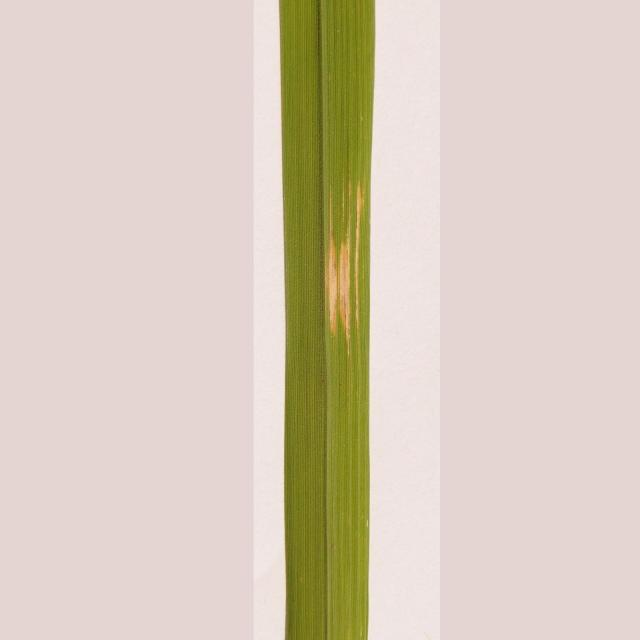leaf blight: (317, 171, 379, 373)
